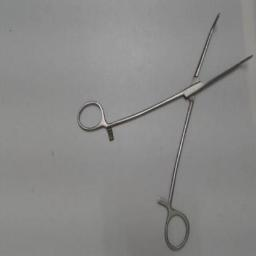Lahey Forceps: (73, 8, 255, 254)
